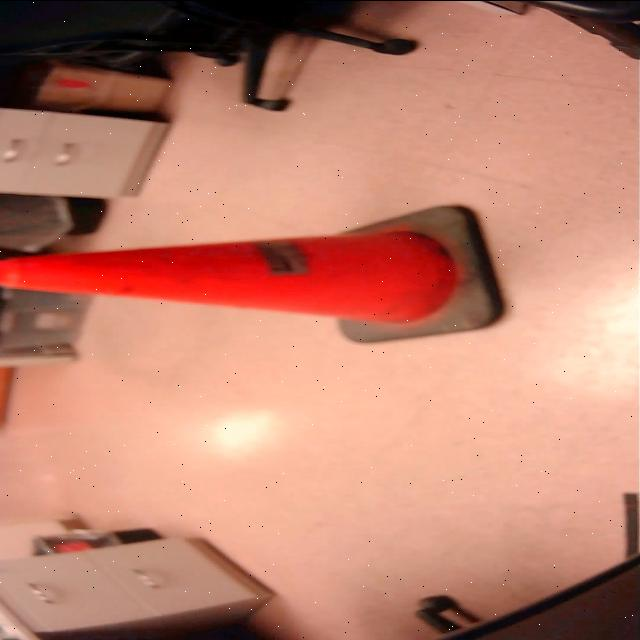traffic cone: (1, 202, 509, 348)
